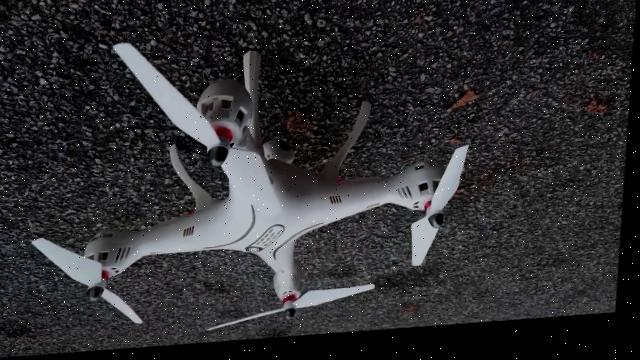drone: (25, 21, 482, 350)
